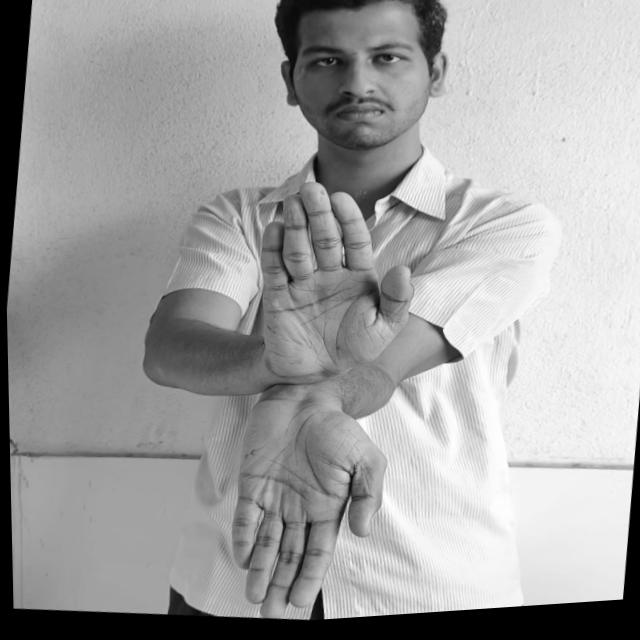Morning: (213, 173, 432, 629)
